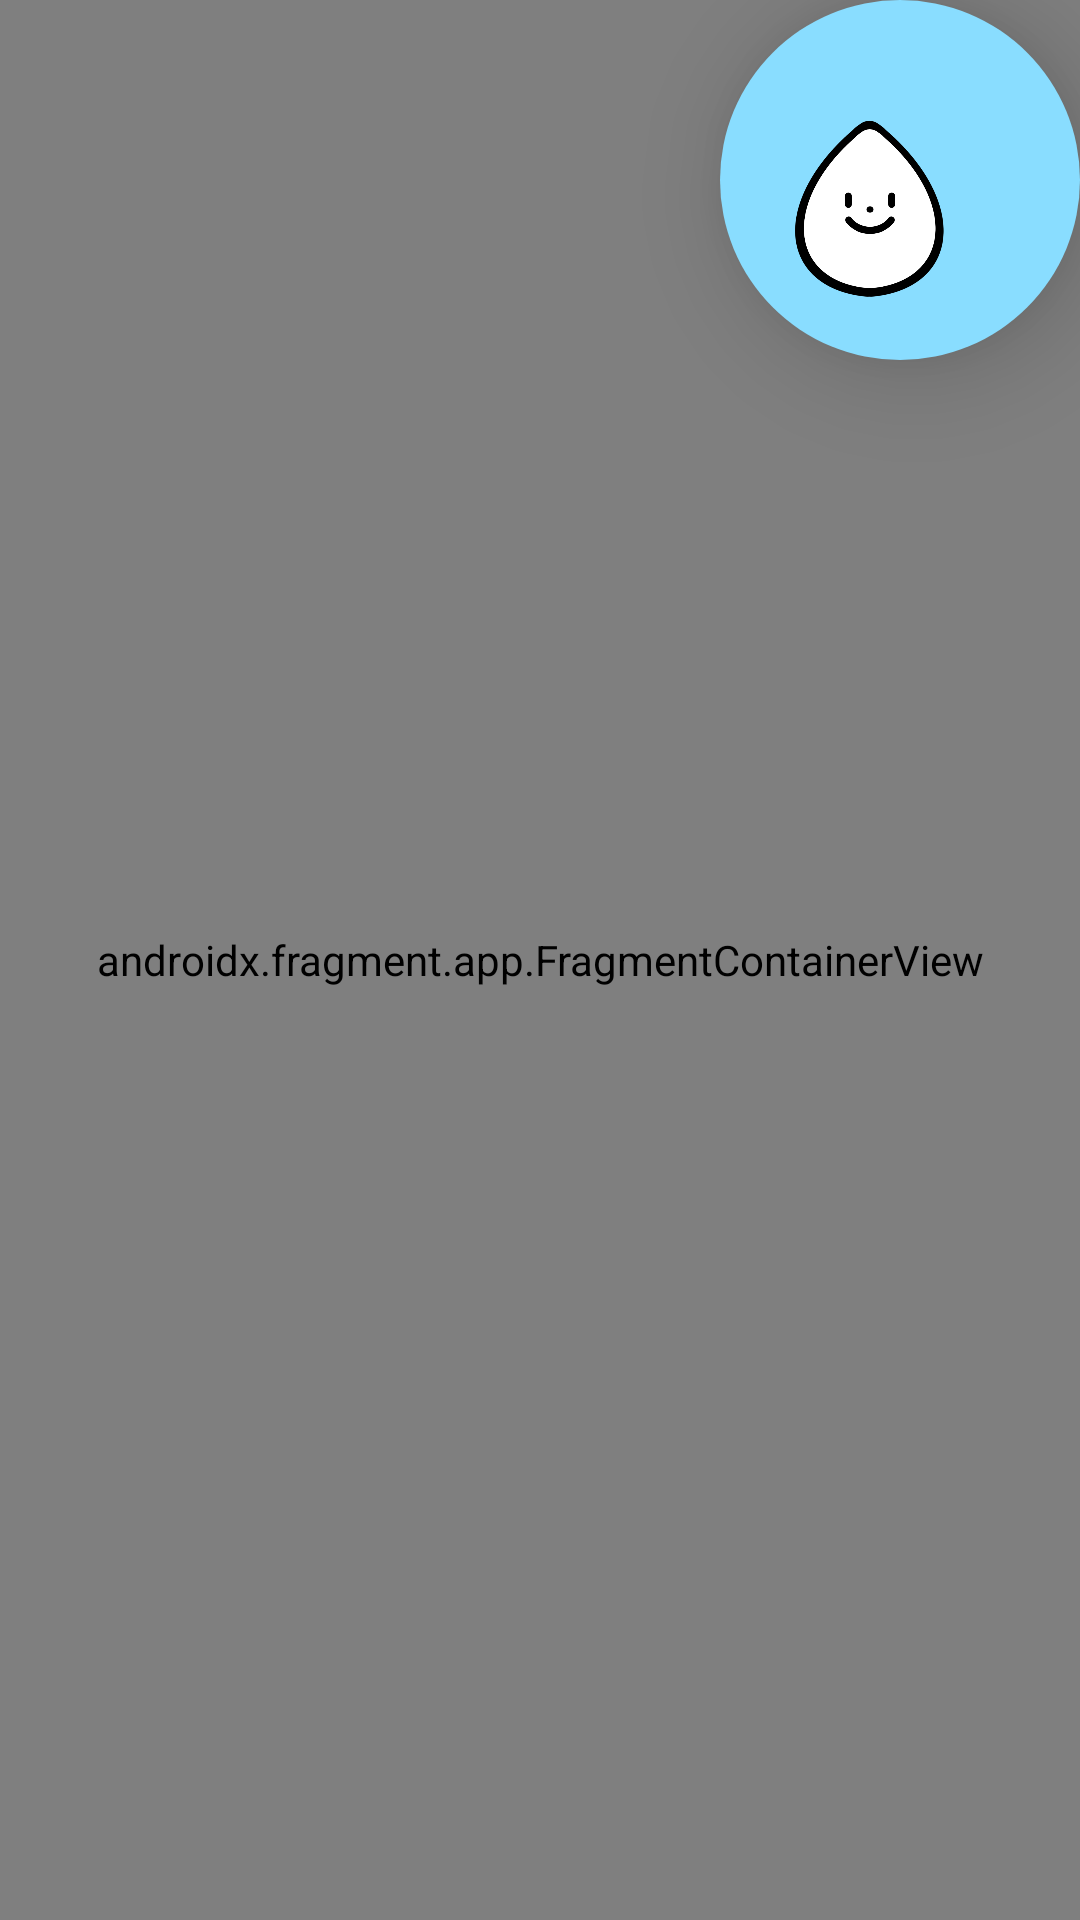

Icon click points for this 1080px×1920px phone screenshot, format point (x, y):
profile water drop: point (870, 210)
